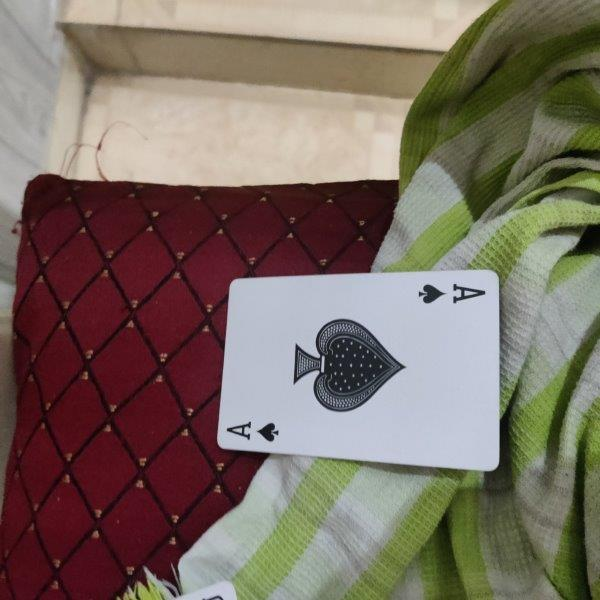Ace of Spades: (217, 269, 500, 472)
